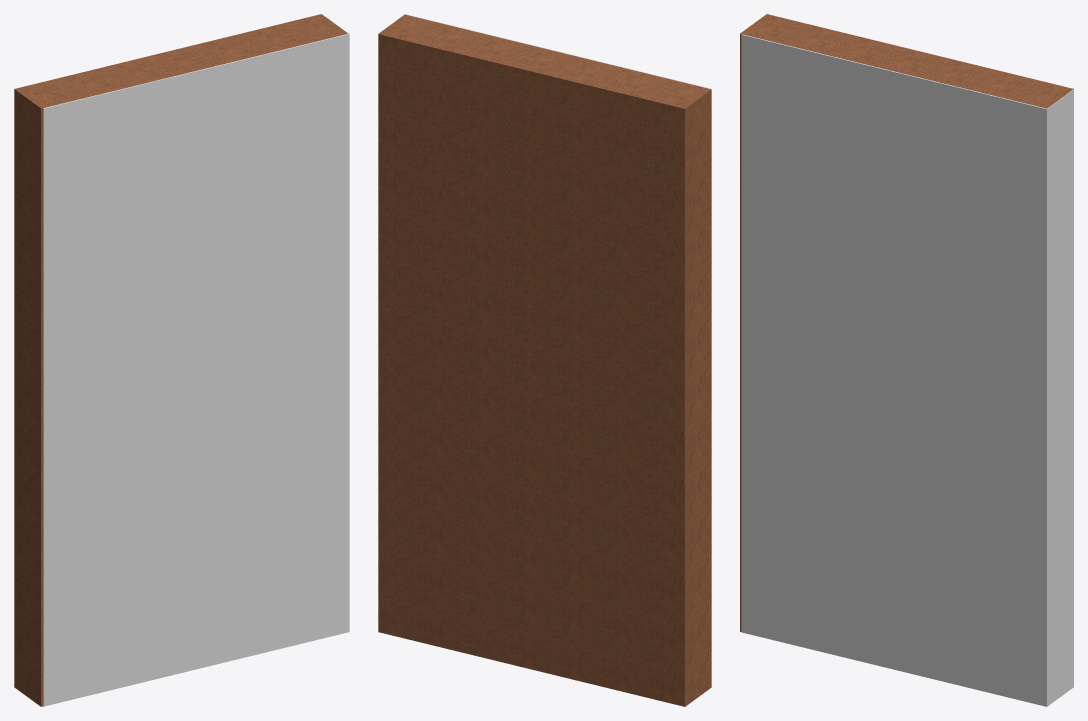
The model's file is ambushdoor.glb.
3 views of the same model, side by side, from view 1: azimuth 30°, elevation 25°; view 2: azimuth 150°, elevation 25°; view 3: azimuth 330°, elevation 25° (orthographic).
Visible parts, largest first — view 1: Cube, precursordoor; view 2: precursordoor; view 3: Cube, precursordoor.
Boxes of the visible parts, x1=… form: Cube: x1=43, y1=15, x2=349, y2=706; precursordoor: x1=14, y1=14, x2=347, y2=706; precursordoor: x1=378, y1=14, x2=711, y2=706; Cube: x1=741, y1=34, x2=1073, y2=706; precursordoor: x1=740, y1=14, x2=1073, y2=631.
Size of the model in its own units: 13.29 by 24.69 by 2.05.
Materials: 3 (3 with a texture image).
